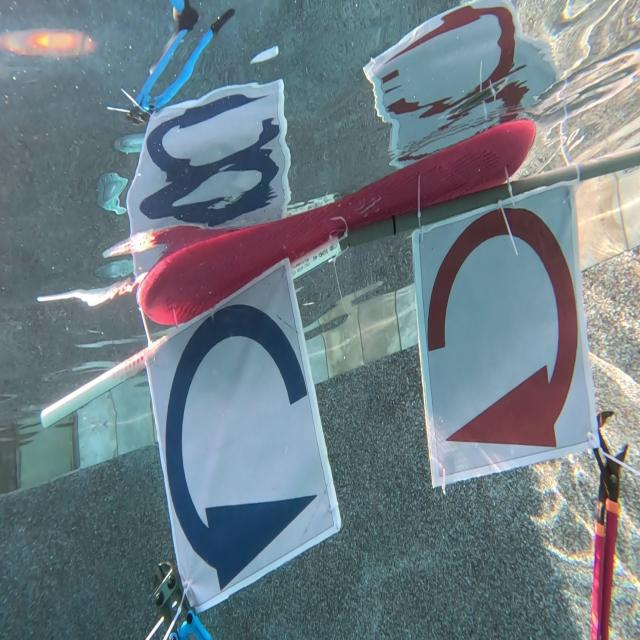blue_side: (148, 256, 340, 610)
red_side: (414, 183, 599, 486)
